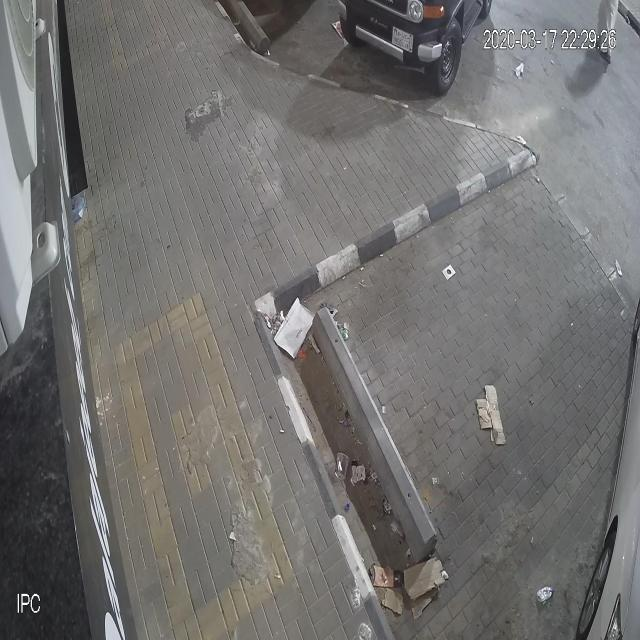license_plate: (391, 26, 413, 54)
